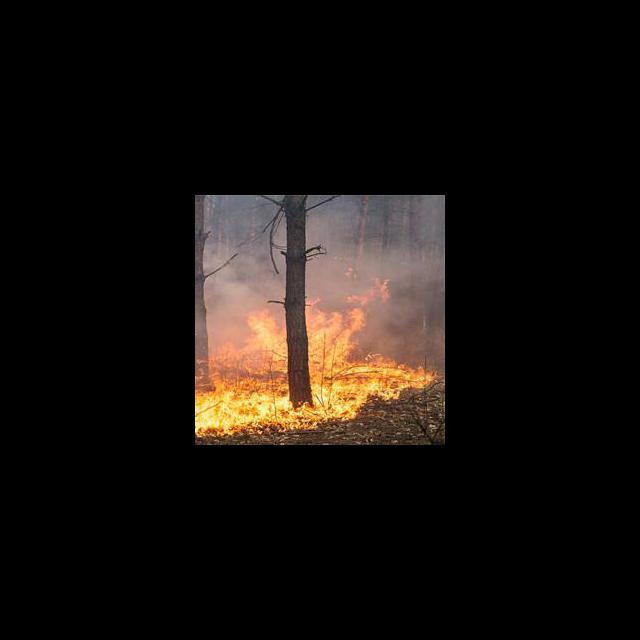Fire: (196, 268, 435, 438)
